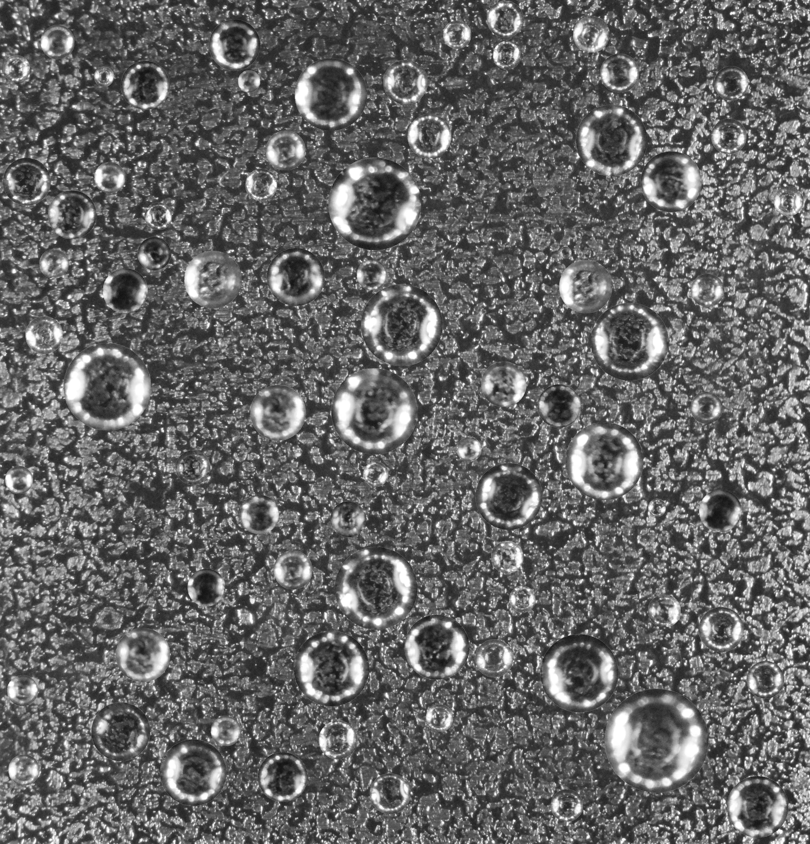Bubble: (604, 688, 708, 792), (328, 157, 421, 250), (63, 343, 150, 430), (331, 368, 417, 454), (334, 547, 417, 629), (361, 284, 442, 365), (565, 422, 643, 500), (540, 634, 618, 712), (590, 302, 668, 380), (293, 631, 369, 706), (294, 58, 367, 130), (576, 104, 647, 175), (475, 463, 542, 529), (160, 739, 226, 805), (404, 614, 469, 679), (727, 776, 788, 837), (640, 151, 701, 212), (91, 702, 150, 761), (266, 248, 324, 305), (184, 250, 241, 308), (250, 385, 305, 440), (115, 628, 169, 682), (559, 260, 612, 313), (209, 19, 260, 70), (257, 752, 307, 801), (120, 60, 169, 109), (47, 190, 96, 238), (2, 157, 50, 205), (481, 361, 526, 406), (698, 607, 743, 652), (102, 268, 147, 313), (383, 59, 427, 104), (407, 114, 451, 157), (537, 384, 580, 427), (699, 489, 741, 532), (369, 773, 410, 814), (265, 130, 305, 170), (600, 53, 639, 92), (318, 720, 357, 759), (273, 550, 312, 589), (239, 495, 278, 534), (187, 568, 225, 606), (475, 639, 513, 677), (746, 661, 784, 698), (25, 316, 62, 353), (487, 0, 523, 37), (573, 16, 609, 52), (330, 501, 365, 537), (711, 118, 746, 153), (175, 450, 210, 484), (714, 66, 748, 100), (40, 25, 74, 58), (137, 237, 170, 270), (691, 273, 724, 306), (648, 594, 680, 627), (550, 789, 583, 821), (245, 168, 277, 200), (491, 541, 523, 573), (690, 392, 722, 423), (356, 259, 387, 290), (8, 754, 39, 785), (94, 162, 125, 192), (7, 675, 37, 706), (210, 716, 240, 746), (773, 186, 803, 215), (39, 249, 68, 278), (493, 41, 521, 69), (443, 20, 471, 48), (425, 704, 453, 731), (5, 466, 32, 493), (144, 202, 171, 229), (3, 55, 29, 82), (509, 586, 535, 612), (363, 461, 388, 486), (456, 437, 481, 461), (238, 70, 260, 92), (94, 66, 113, 86), (648, 498, 666, 516), (58, 516, 73, 531), (559, 246, 571, 258)
